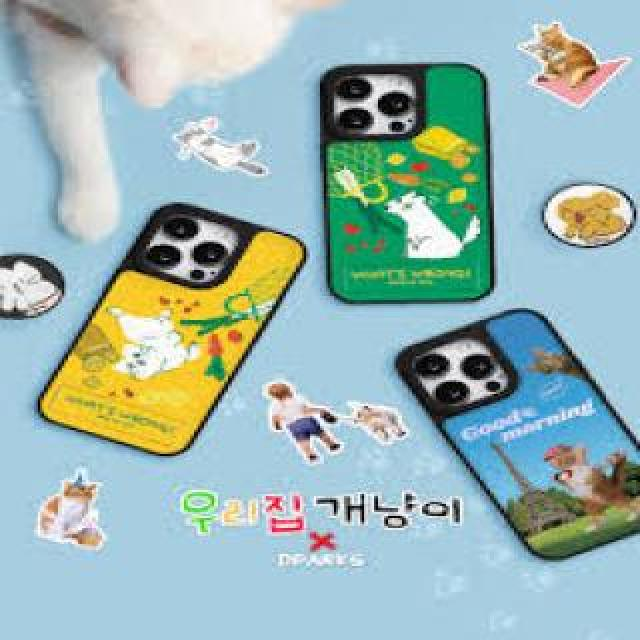smart phone: (32, 163, 305, 500), (395, 327, 640, 550), (312, 44, 522, 298)
